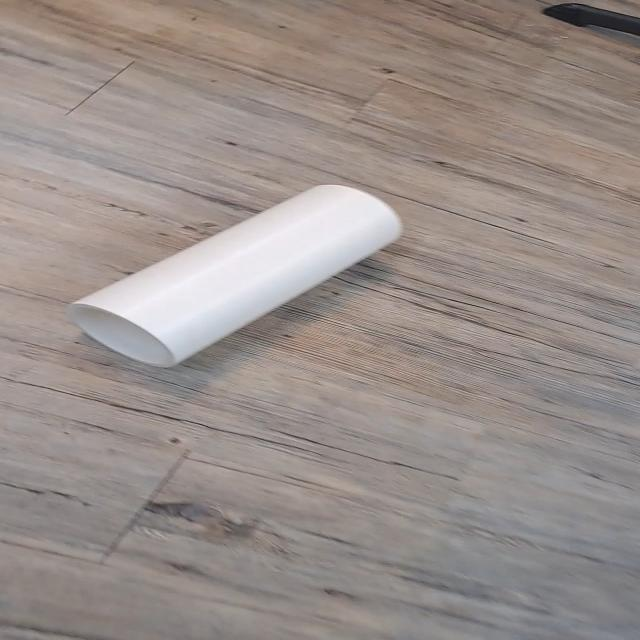CORAL: (54, 175, 419, 398)
